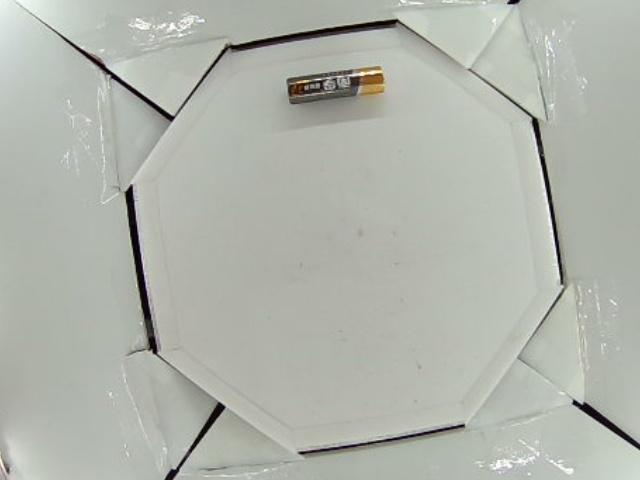Battery: (287, 64, 385, 104)
